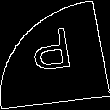P_S: (30, 27, 80, 83)
